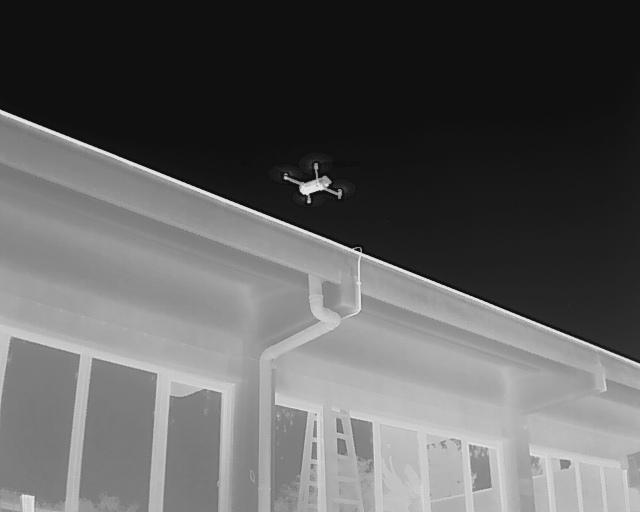drone: (270, 150, 359, 218)
